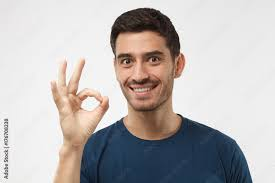OK: (38, 56, 118, 153)
